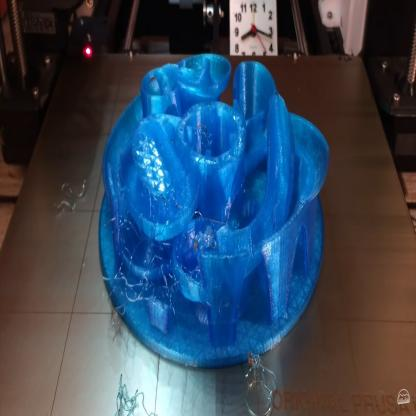fail: (112, 264, 155, 307), (116, 375, 152, 416)
